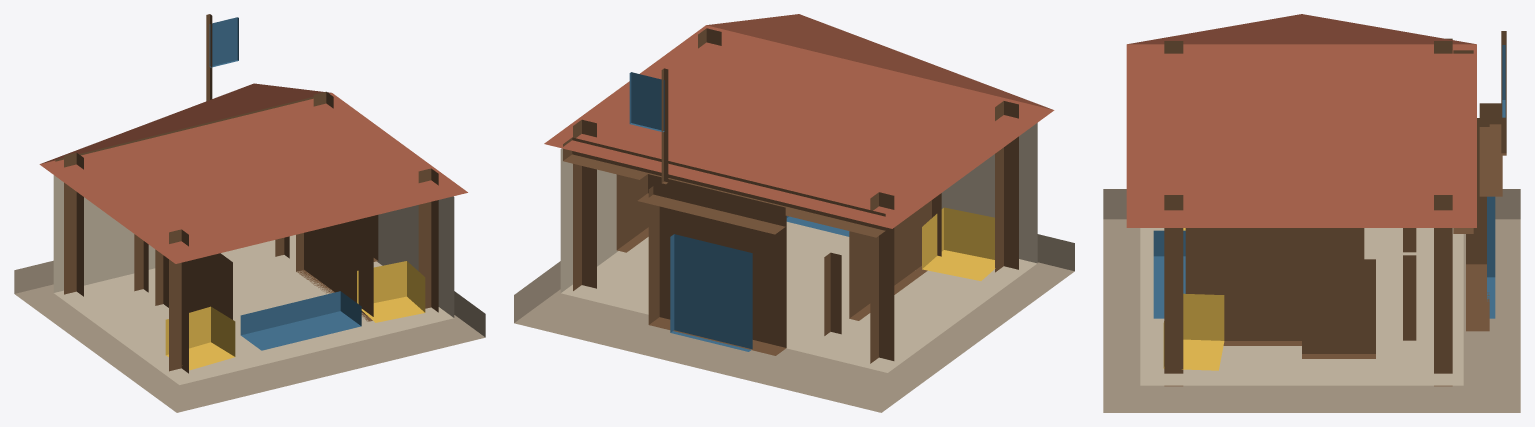
File: Stable_authoring.glb
3 views of the same model, side by side, from view 1: azimuth 30°, elevation 25°; view 2: azimuth 150°, elevation 25°; view 3: azimuth 270°, elevation 25° (orthographic). The views are drawn at different scales.
Visible parts, largest first — view 1: Stable_authoring; view 2: Stable_authoring; view 3: Stable_authoring.
Boxes of the visible parts, x1,y1,x2,y2 form: Stable_authoring: [14, 14, 485, 412]; Stable_authoring: [514, 14, 1074, 412]; Stable_authoring: [1103, 14, 1520, 412].
Size of the model in its own units: 6.8 by 5 by 6.2.
